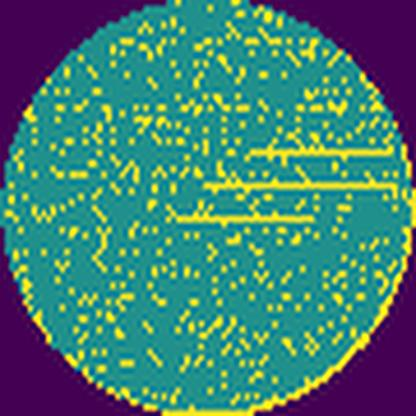Scratch: (199, 177, 403, 203), (240, 141, 404, 165), (165, 209, 323, 232)
